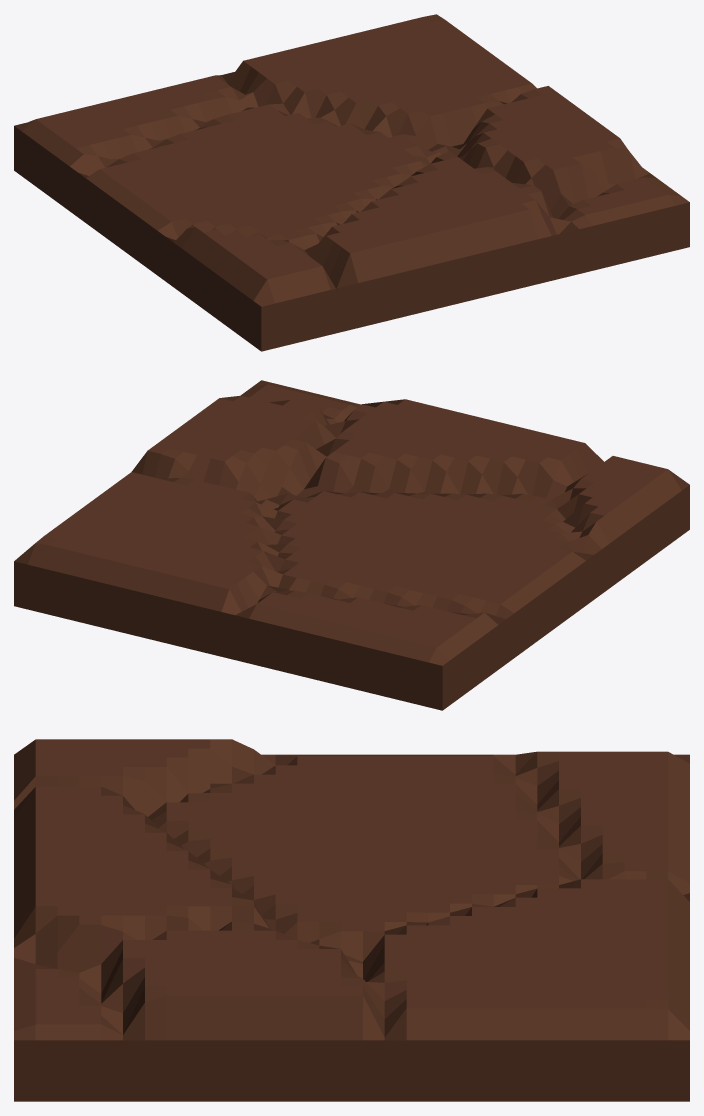
Rendered from floor.obj.
3 views of the same model, one above another, from view 1: azimuth 30°, elevation 25°; view 2: azimuth 150°, elevation 25°; view 3: azimuth 270°, elevation 25° (orthographic). The views are drawn at different scales.
Visible parts, largest first — view 1: Floor; view 2: Floor; view 3: Floor.
Boxes of the visible parts, box(x1,y1,x2,y2) form: Floor: box(14, 14, 689, 351); Floor: box(14, 380, 689, 710); Floor: box(14, 739, 689, 1101).
Bounding box in the file's own units: 2 × 0.3177 × 2.
